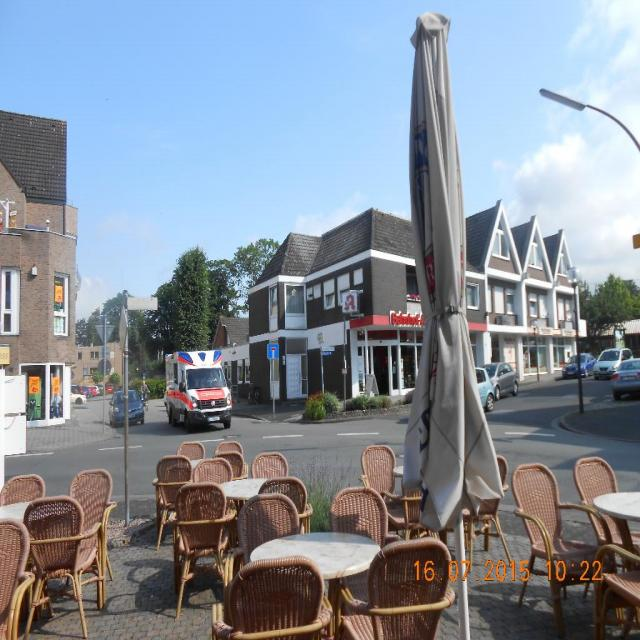Ambulance: (165, 346, 232, 433)
